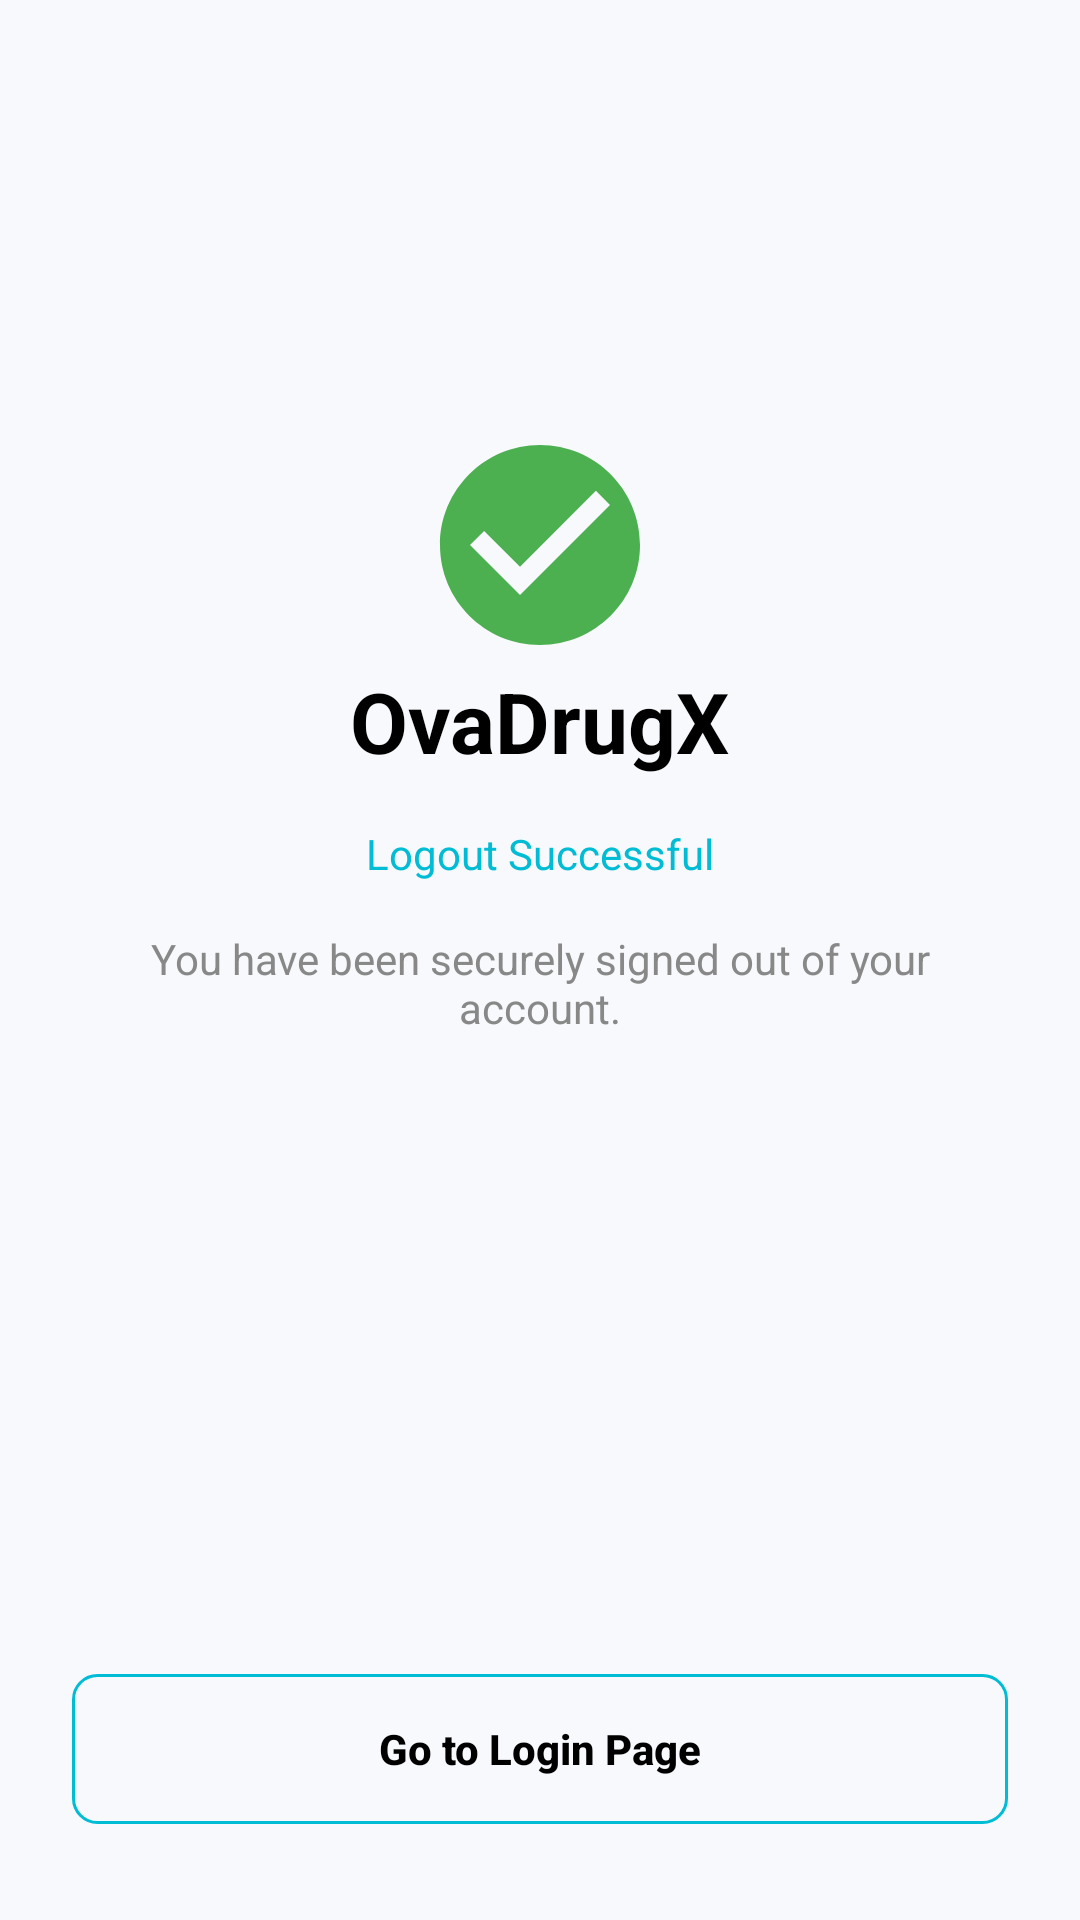

Icon bounding boxes for this 1080 × 1920 phone screenshot, format (x1, y1, x2, y2):
check circle: (440, 445, 640, 645)
